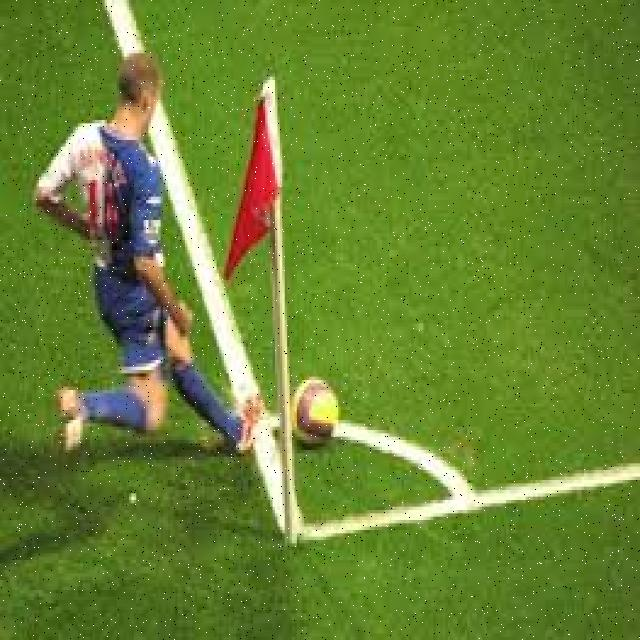corner-kick: (221, 64, 496, 570)
